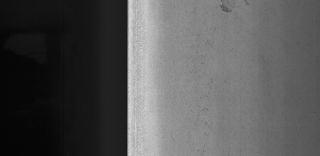silk spot: (182, 30, 255, 146)
water spot: (214, 1, 256, 19)
